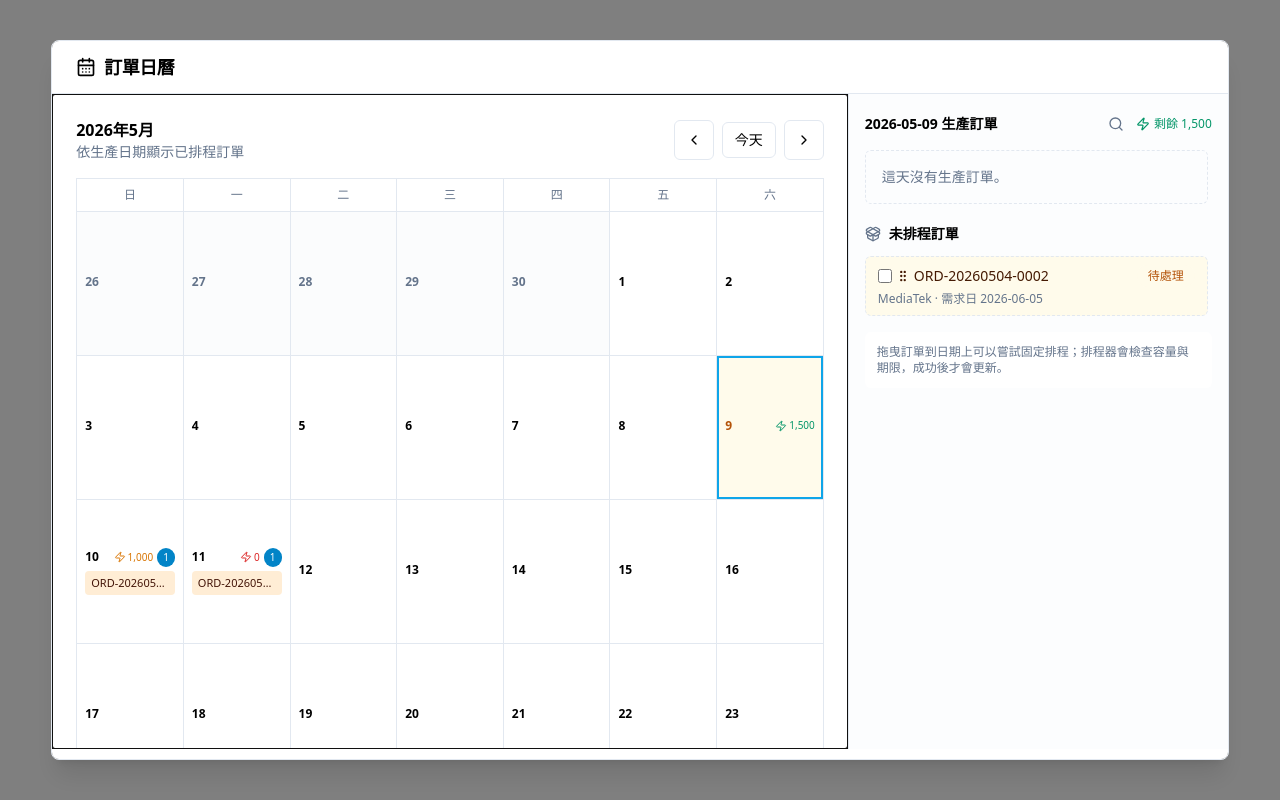
it: OrdersCalendarDialog › shows split production as completed when status is completed
Step 1. Click the button named "2026-05-11" → (237, 572), box 184,500 -> 291,644
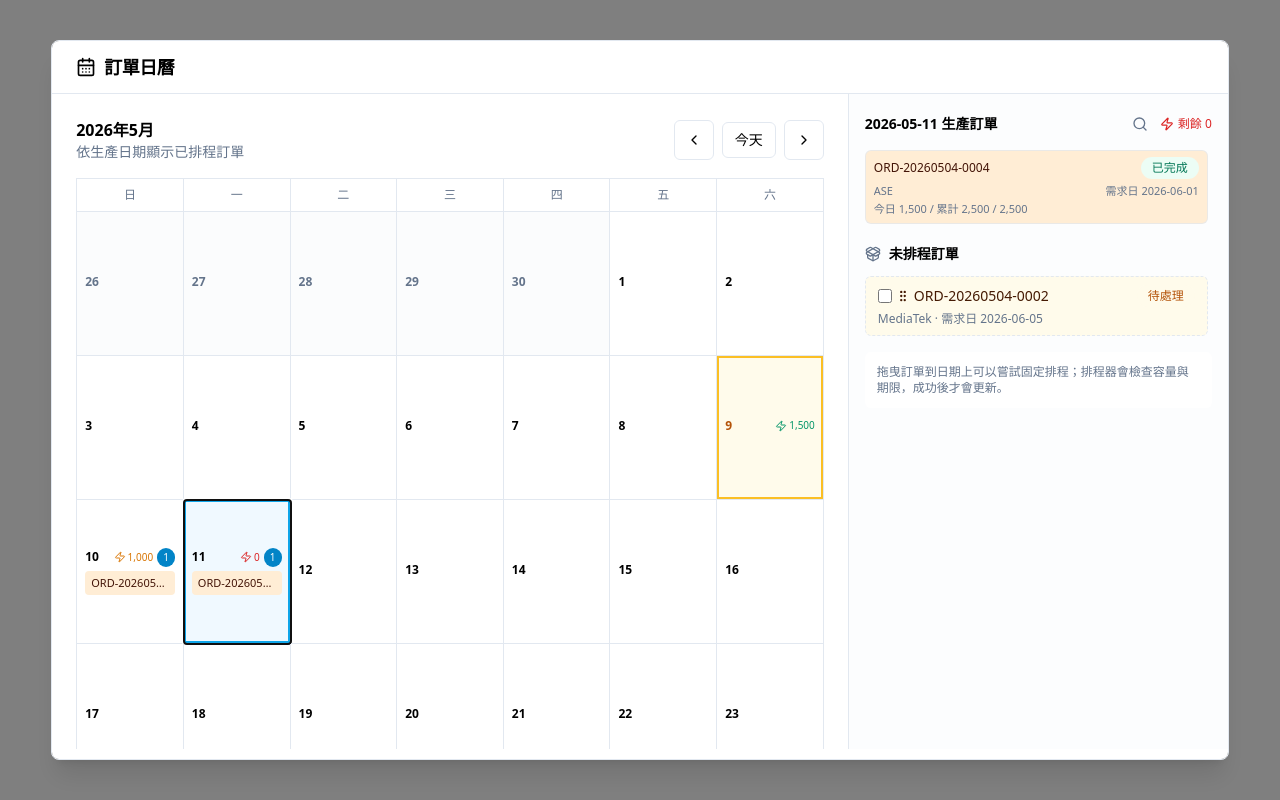
Result: the text "已完成" is shown at 1141,157 -> 1199,179
